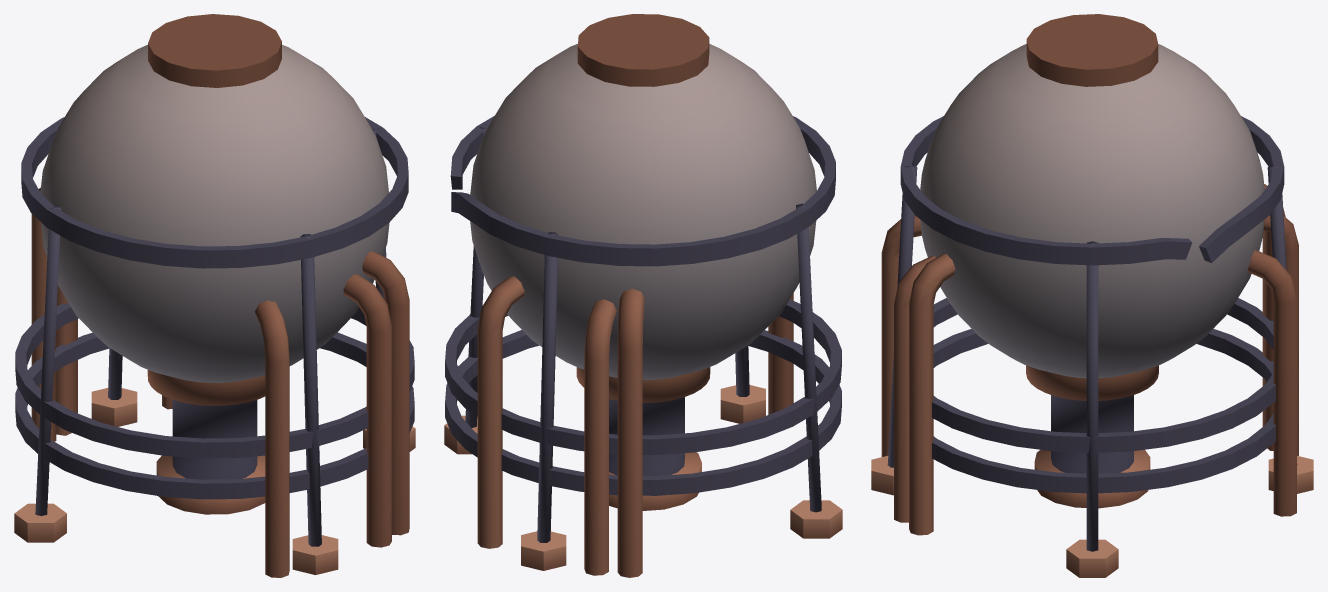
Rendered from BuildingTank.fbx.
The picture shows the model from 3 angles, left to right: view 1: azimuth 30°, elevation 25°; view 2: azimuth 150°, elevation 25°; view 3: azimuth 270°, elevation 25°; orthographic projection.
Parts seen in each view (by area): view 1: BuildingTank; view 2: BuildingTank; view 3: BuildingTank.
Boxes of the visible parts, bbox=[...] form: BuildingTank: bbox=[14, 14, 415, 577]; BuildingTank: bbox=[444, 14, 842, 577]; BuildingTank: bbox=[871, 14, 1313, 577].
Bounding box in the file's own units: 835 × 921 × 835.
